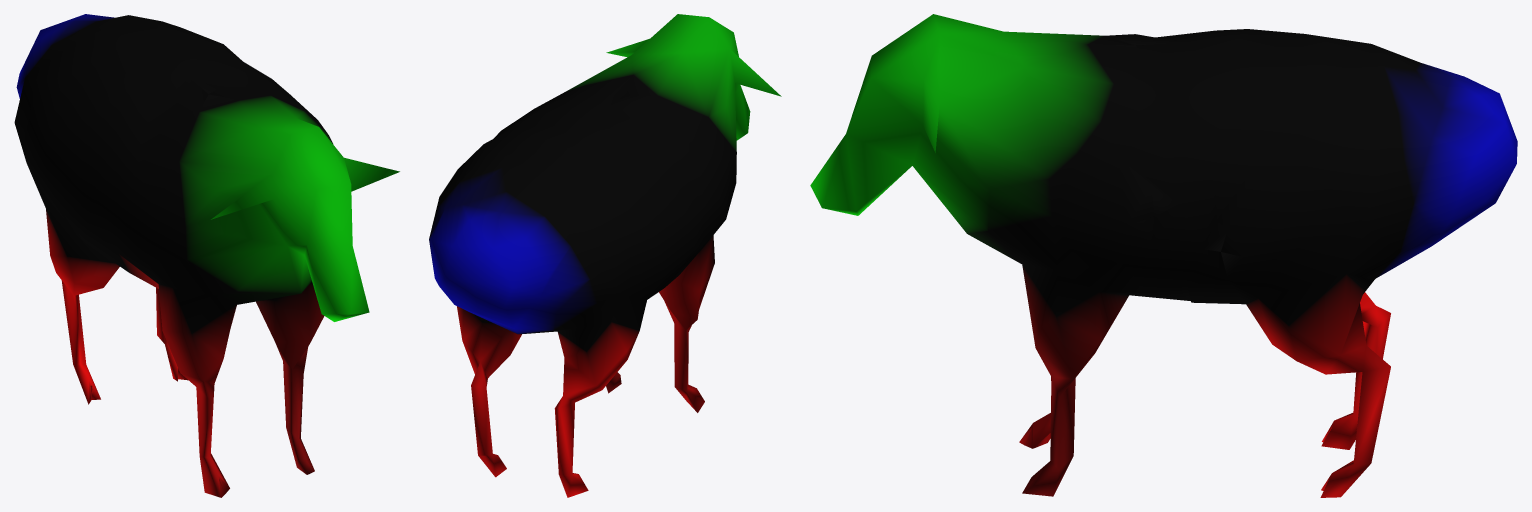
The model's file is sheep_ewe_lod2_bind.glb.
3 renders of one model, left to right at view 1: azimuth 30°, elevation 25°; view 2: azimuth 150°, elevation 25°; view 3: azimuth 270°, elevation 25°, orthographic. The views are drawn at different scales.
Parts seen in each view (by area): view 1: Sheep_Body.001; view 2: Sheep_Body.001; view 3: Sheep_Body.001.
Part boxes in pixels (bbox=[...]): Sheep_Body.001: bbox=[14, 14, 399, 497]; Sheep_Body.001: bbox=[429, 14, 781, 497]; Sheep_Body.001: bbox=[810, 14, 1517, 497].
Bounding box in the file's own units: 0.429 × 0.7055 × 1.
